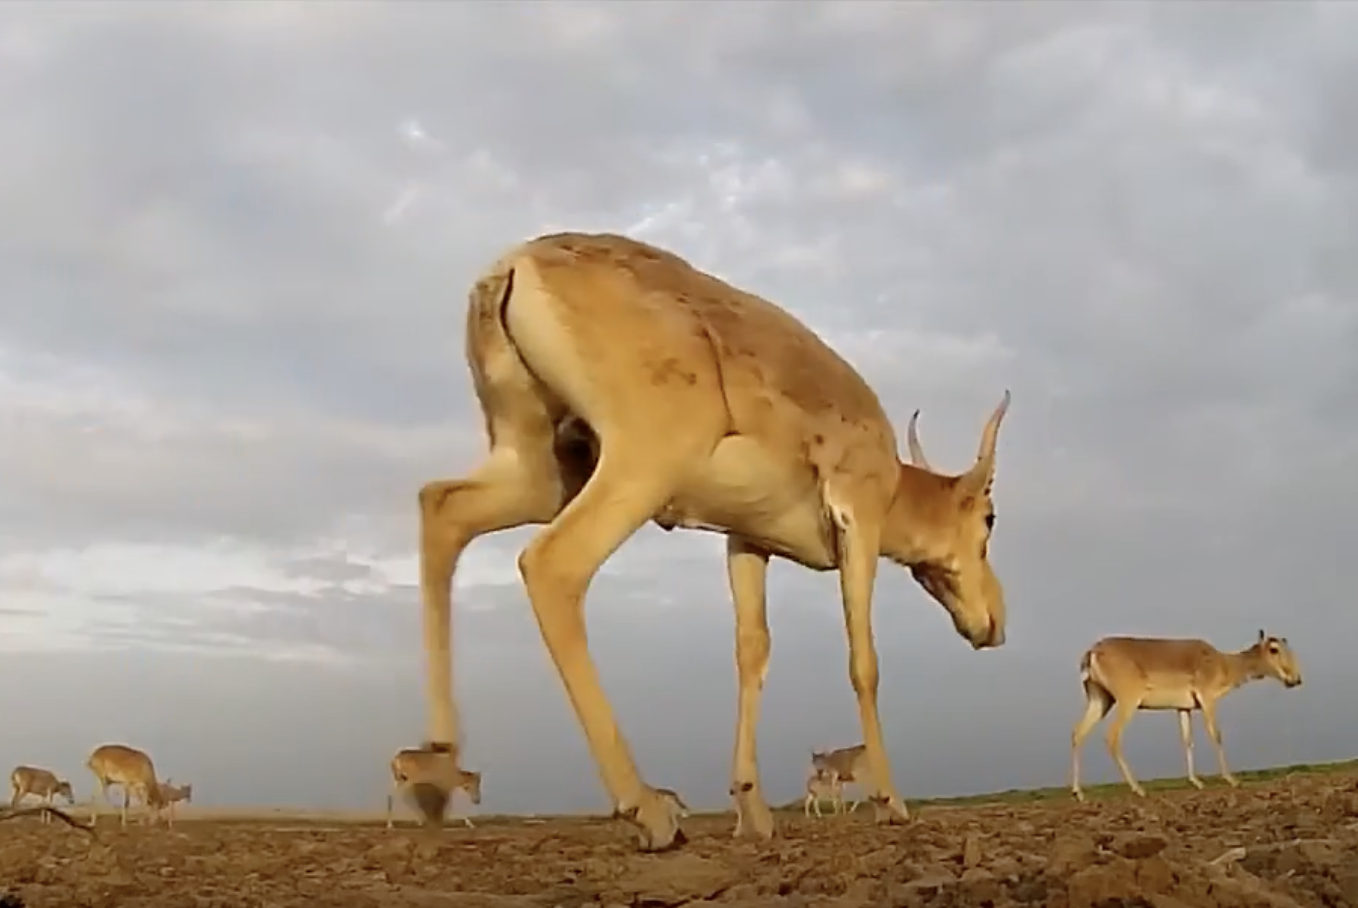saiga: (393, 177, 1020, 846)
